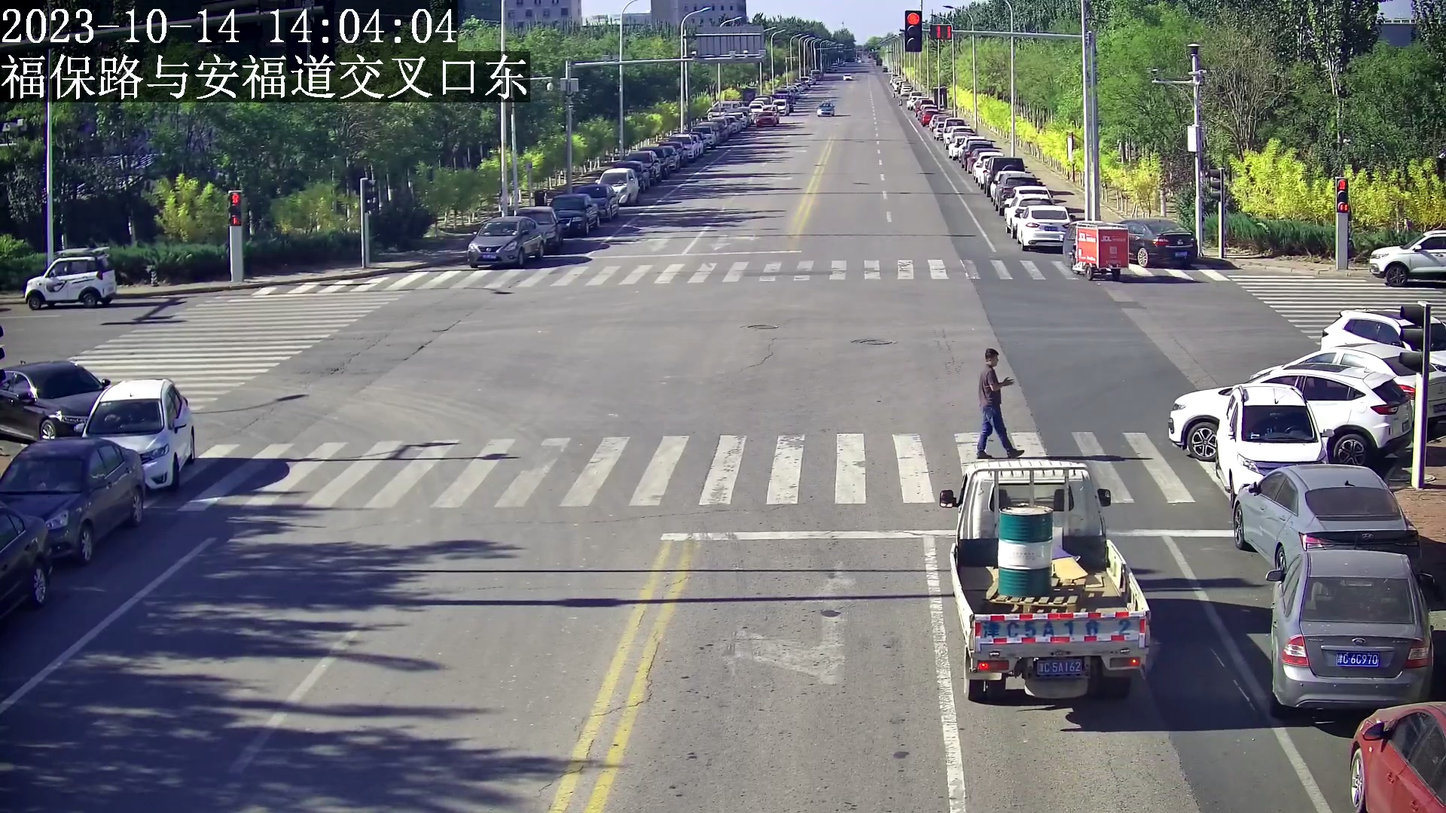person: (975, 343, 1024, 458)
vehicle: (939, 458, 1152, 703), (1265, 550, 1432, 719), (1168, 367, 1416, 462), (1232, 464, 1425, 566), (2, 434, 145, 560), (86, 373, 197, 489), (1340, 700, 1446, 811), (1214, 383, 1329, 478), (2, 358, 111, 440), (23, 248, 120, 306), (1107, 210, 1198, 271), (1365, 224, 1444, 282), (465, 215, 546, 268), (1066, 221, 1123, 278), (1012, 202, 1076, 249)
